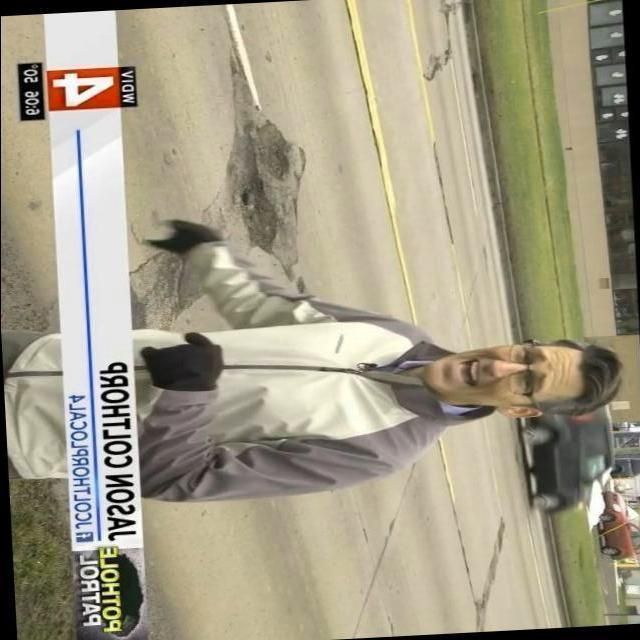pothole: (205, 42, 305, 287), (130, 251, 184, 329)
